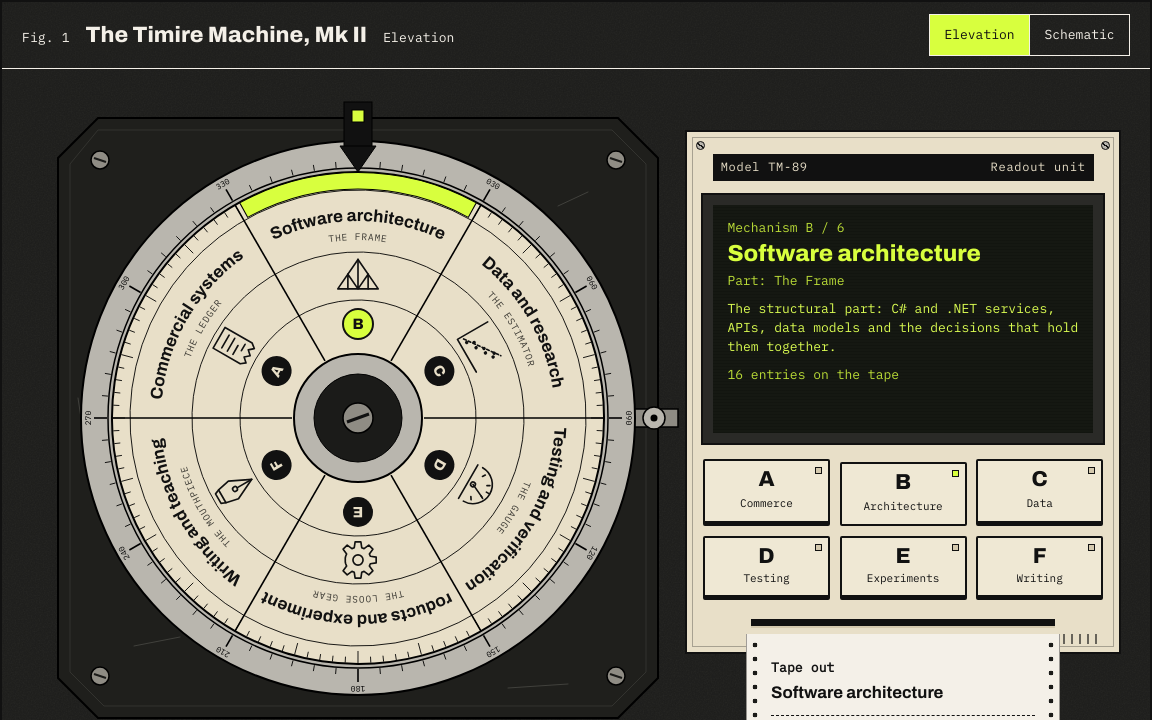
Test: Machine › selects by click and announces the change in the readout
The width and height of the screenshot is (1152, 720).
What coordinates should you click on to do the following:
click the radio button labelled "D Testing"
I would click on:
 (766, 568)
Its box is [703, 536, 830, 600].
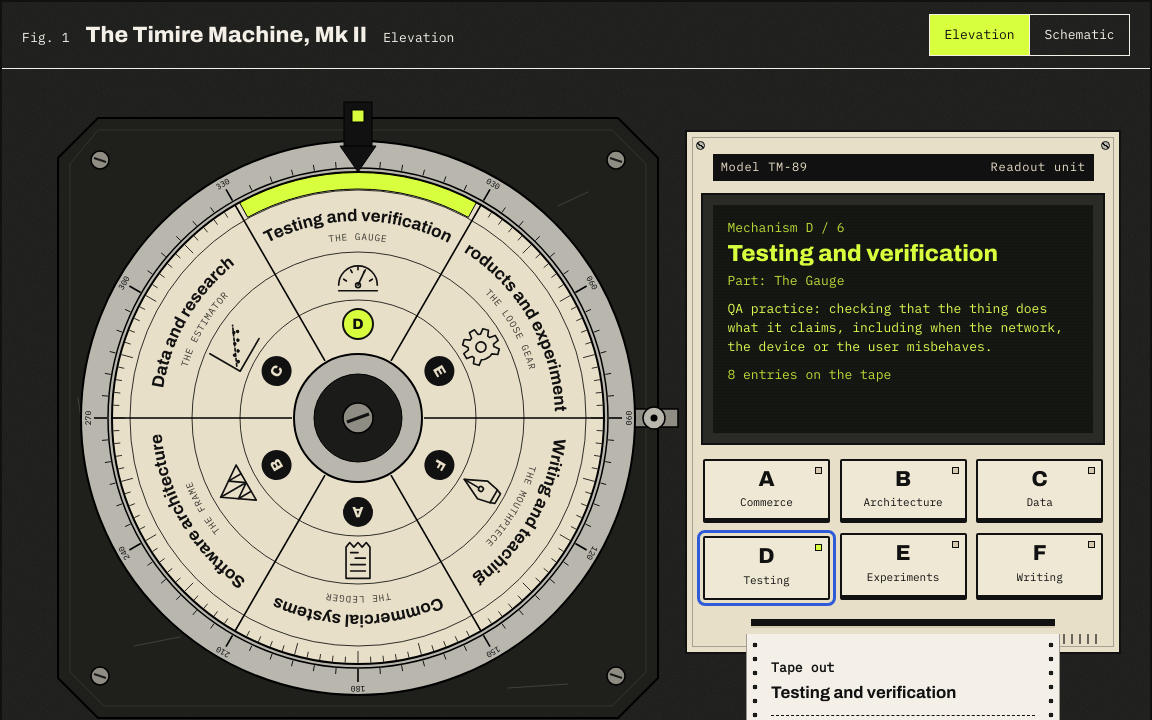
expect the text "Testing and verification" below "Model TM-89" is shown: met, box [727, 241, 998, 266]
